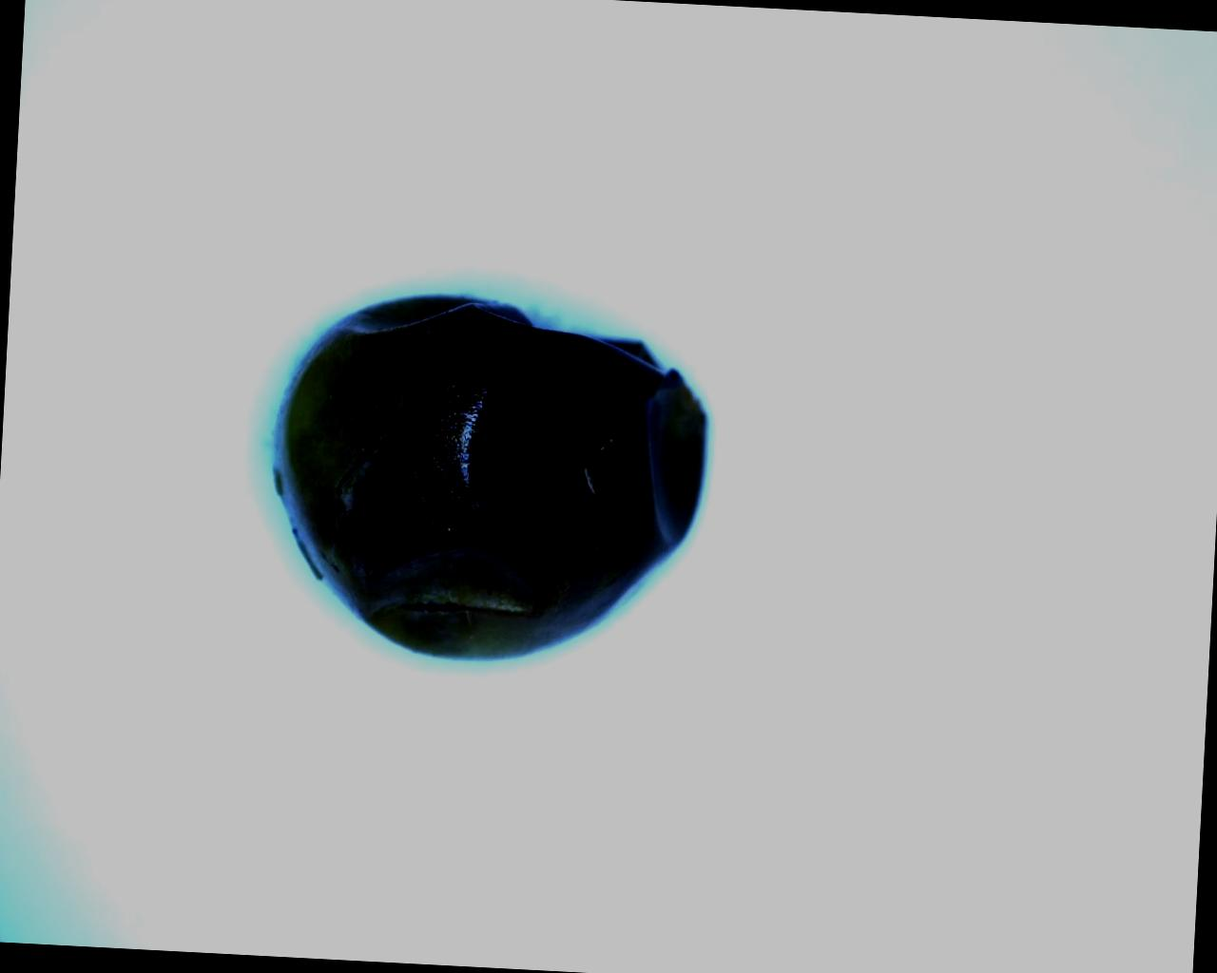Grape Rotten: (259, 282, 716, 673)
